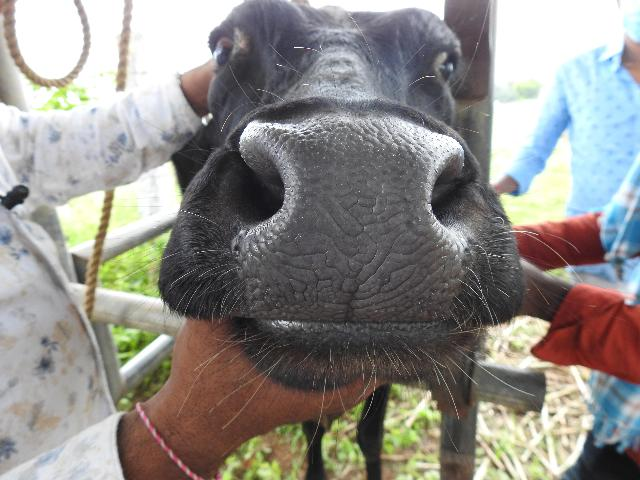Muzzle: (265, 132, 449, 310)
